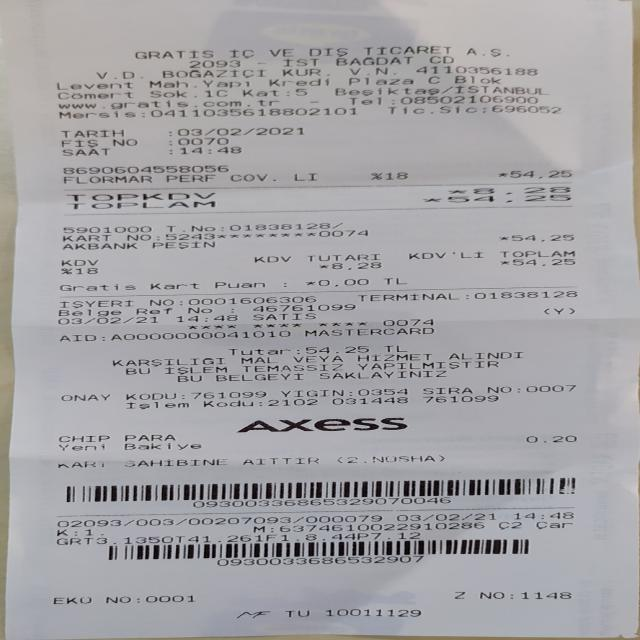text: (51, 532, 422, 545), (55, 514, 383, 526), (190, 496, 452, 508), (233, 417, 408, 432), (215, 555, 427, 566), (278, 522, 484, 532), (110, 330, 290, 341), (148, 108, 355, 117), (57, 100, 279, 108), (65, 191, 217, 201), (66, 200, 216, 210), (402, 95, 541, 104), (414, 65, 535, 75), (332, 85, 439, 96), (323, 606, 420, 618), (160, 68, 264, 79), (186, 296, 316, 304), (176, 128, 302, 136), (447, 194, 573, 202), (335, 454, 447, 463), (60, 166, 227, 172), (133, 48, 214, 60), (452, 84, 540, 95), (362, 45, 454, 55), (110, 358, 224, 366), (303, 328, 433, 335), (386, 106, 476, 116), (321, 371, 445, 378), (55, 316, 161, 324), (54, 89, 131, 100), (358, 362, 498, 368), (470, 186, 573, 194), (122, 458, 225, 466), (242, 364, 343, 372), (394, 512, 495, 520), (57, 110, 135, 120), (361, 293, 456, 301), (472, 291, 576, 298), (228, 223, 330, 230), (214, 373, 303, 381), (333, 56, 412, 65), (54, 80, 132, 89), (60, 241, 137, 250), (446, 351, 523, 360), (490, 104, 559, 114), (58, 299, 133, 308), (346, 75, 412, 85), (250, 304, 356, 310), (266, 76, 329, 86), (240, 456, 318, 464), (62, 175, 150, 182), (331, 396, 408, 404), (356, 354, 432, 362), (421, 395, 497, 403), (162, 365, 226, 374), (188, 58, 244, 68), (123, 442, 200, 449), (150, 241, 217, 249), (189, 391, 265, 398), (62, 226, 150, 232), (305, 253, 380, 260), (95, 69, 142, 80), (348, 66, 395, 77), (59, 129, 123, 137), (304, 346, 368, 354), (280, 389, 344, 397), (306, 46, 348, 58), (178, 146, 241, 154), (227, 347, 290, 355), (508, 170, 570, 178), (280, 66, 321, 78), (201, 78, 250, 88), (452, 74, 501, 84), (292, 354, 341, 364), (511, 511, 572, 519), (406, 252, 483, 258), (55, 309, 121, 316), (240, 86, 278, 98), (497, 250, 573, 256), (58, 284, 134, 290), (356, 387, 406, 396), (264, 398, 320, 406), (511, 258, 574, 265), (60, 393, 109, 402), (149, 88, 185, 100), (234, 607, 270, 619), (511, 234, 572, 241), (162, 232, 215, 240), (200, 399, 253, 407), (164, 174, 216, 182), (315, 278, 367, 286), (124, 392, 176, 400), (524, 384, 576, 392), (381, 318, 432, 326), (420, 386, 471, 394), (56, 460, 107, 468), (147, 78, 187, 88), (214, 280, 264, 288), (466, 46, 502, 57), (176, 138, 231, 145), (60, 148, 108, 156), (250, 314, 314, 320), (144, 594, 192, 602), (350, 96, 388, 106), (175, 315, 237, 321), (280, 57, 321, 66), (318, 230, 370, 237), (57, 442, 102, 450), (59, 233, 110, 240), (148, 282, 198, 289), (525, 435, 575, 442), (330, 262, 379, 269), (57, 333, 95, 342), (534, 520, 572, 529), (522, 591, 570, 598), (264, 47, 294, 58), (59, 139, 99, 147), (57, 435, 109, 441), (123, 434, 174, 440), (238, 356, 276, 364), (228, 47, 253, 59), (284, 606, 308, 618), (252, 255, 292, 262), (227, 173, 266, 180), (51, 596, 90, 603), (484, 384, 510, 394), (427, 54, 452, 64), (494, 521, 524, 529), (125, 366, 151, 375), (59, 259, 97, 265), (134, 308, 172, 314), (382, 344, 407, 353), (176, 374, 201, 383), (104, 595, 130, 603), (109, 138, 135, 146), (542, 308, 576, 314), (147, 298, 172, 306), (186, 306, 211, 314), (292, 172, 316, 180), (125, 232, 148, 240), (188, 224, 214, 231), (381, 278, 406, 285), (479, 591, 503, 598), (73, 267, 96, 274), (293, 86, 306, 98), (426, 74, 440, 85), (383, 172, 408, 178), (386, 95, 399, 106), (441, 85, 453, 96), (422, 196, 440, 203), (308, 96, 318, 108), (446, 188, 466, 194), (251, 524, 264, 533), (52, 529, 68, 536), (256, 57, 265, 68), (368, 172, 382, 179), (318, 262, 330, 270), (496, 170, 506, 179), (256, 398, 266, 407), (497, 258, 508, 266), (162, 225, 176, 231), (188, 78, 196, 88), (305, 279, 315, 287), (59, 267, 70, 274), (83, 528, 92, 536), (496, 234, 506, 241), (454, 591, 464, 598), (334, 222, 343, 229), (514, 384, 520, 394), (226, 306, 234, 313), (135, 594, 142, 602), (267, 523, 272, 533), (218, 224, 225, 231), (325, 66, 329, 78), (284, 86, 288, 98), (156, 232, 162, 240), (99, 333, 104, 342), (294, 346, 299, 355), (179, 391, 184, 400), (140, 108, 144, 119), (481, 104, 485, 115), (193, 87, 196, 99), (178, 297, 182, 306), (346, 388, 350, 397), (281, 282, 287, 287), (167, 140, 172, 145), (167, 131, 172, 136), (271, 172, 274, 180), (73, 528, 76, 536), (167, 149, 171, 155), (509, 591, 512, 598)
